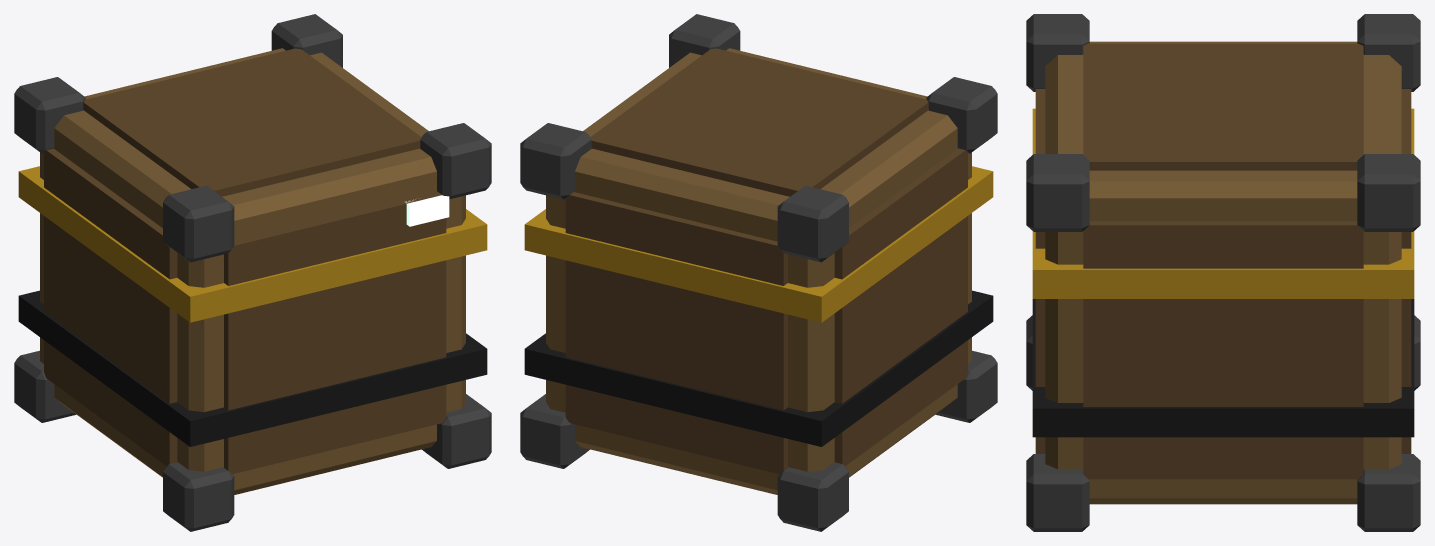
Rendered from crate.glb.
3 views of the same model, side by side, from view 1: azimuth 30°, elevation 25°; view 2: azimuth 150°, elevation 25°; view 3: azimuth 270°, elevation 25° (orthographic). The views are drawn at different scales.
Parts seen in each view (by area): view 1: Crate; view 2: Crate; view 3: Crate.
Part boxes in pixels (left/top/right/bottom): Crate: left=14, top=14, right=491, bottom=531; Crate: left=520, top=14, right=997, bottom=531; Crate: left=1026, top=14, right=1420, bottom=531.
Size of the model in its own units: 0.62 by 0.62 by 0.62.
